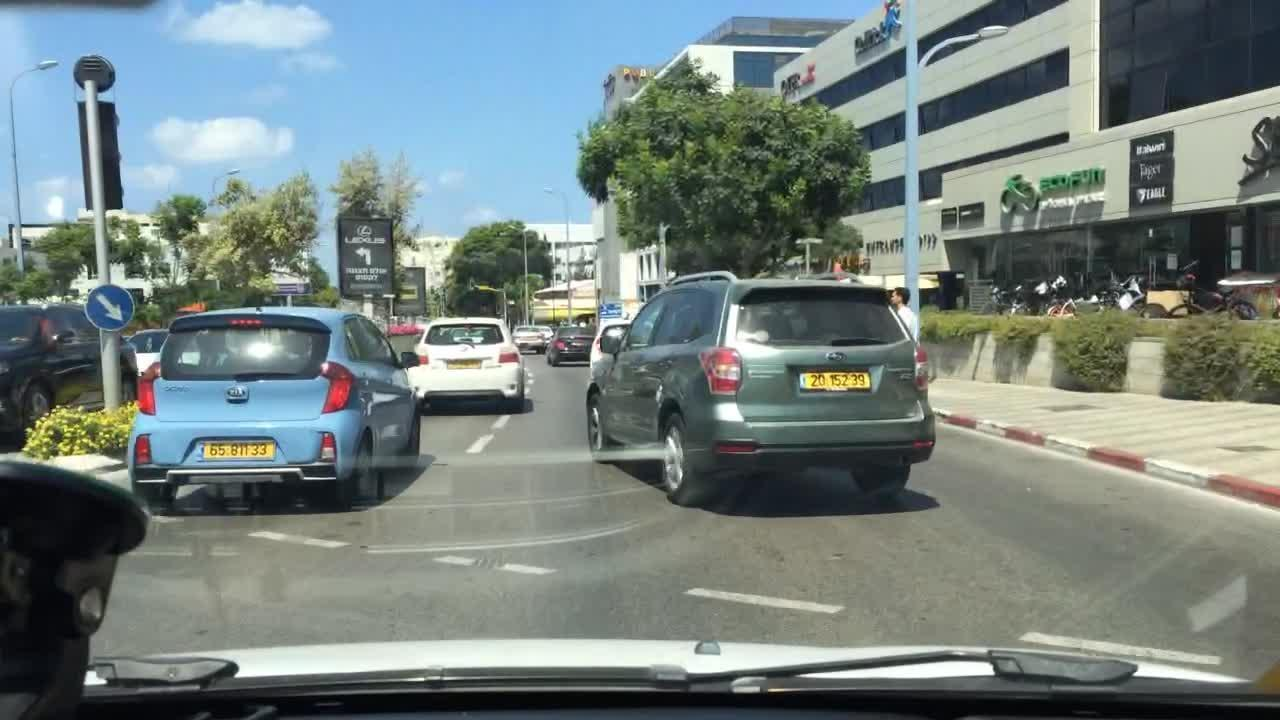kia: (223, 383, 252, 405)
subaru: (822, 346, 854, 368)
